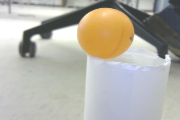PingPongBall: (77, 8, 134, 58)
